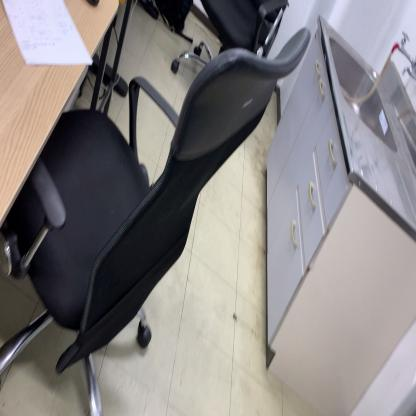chair: (0, 26, 313, 416), (170, 0, 292, 74)
